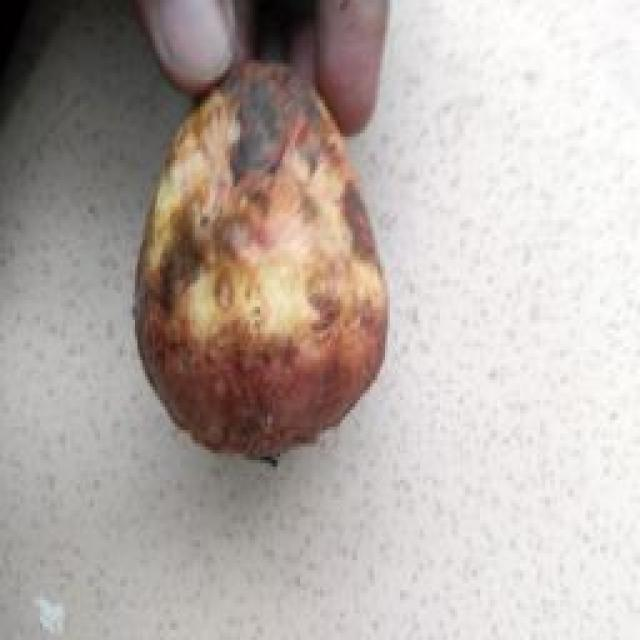Bad_Guava: (136, 62, 388, 456)
